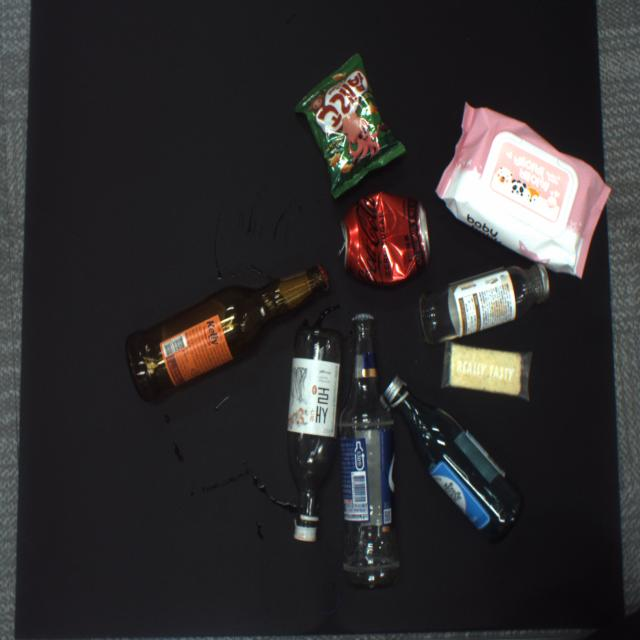beer-bottle: (126, 264, 329, 399), (339, 315, 399, 589)
soju-bottle: (382, 375, 521, 538), (286, 330, 342, 544)
